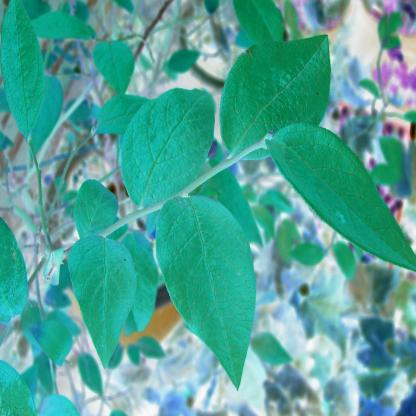Blueberry leaf: (266, 124, 416, 268), (153, 195, 254, 394), (219, 27, 333, 167), (64, 239, 142, 377), (132, 79, 215, 206), (2, 1, 46, 160), (74, 167, 124, 241)
